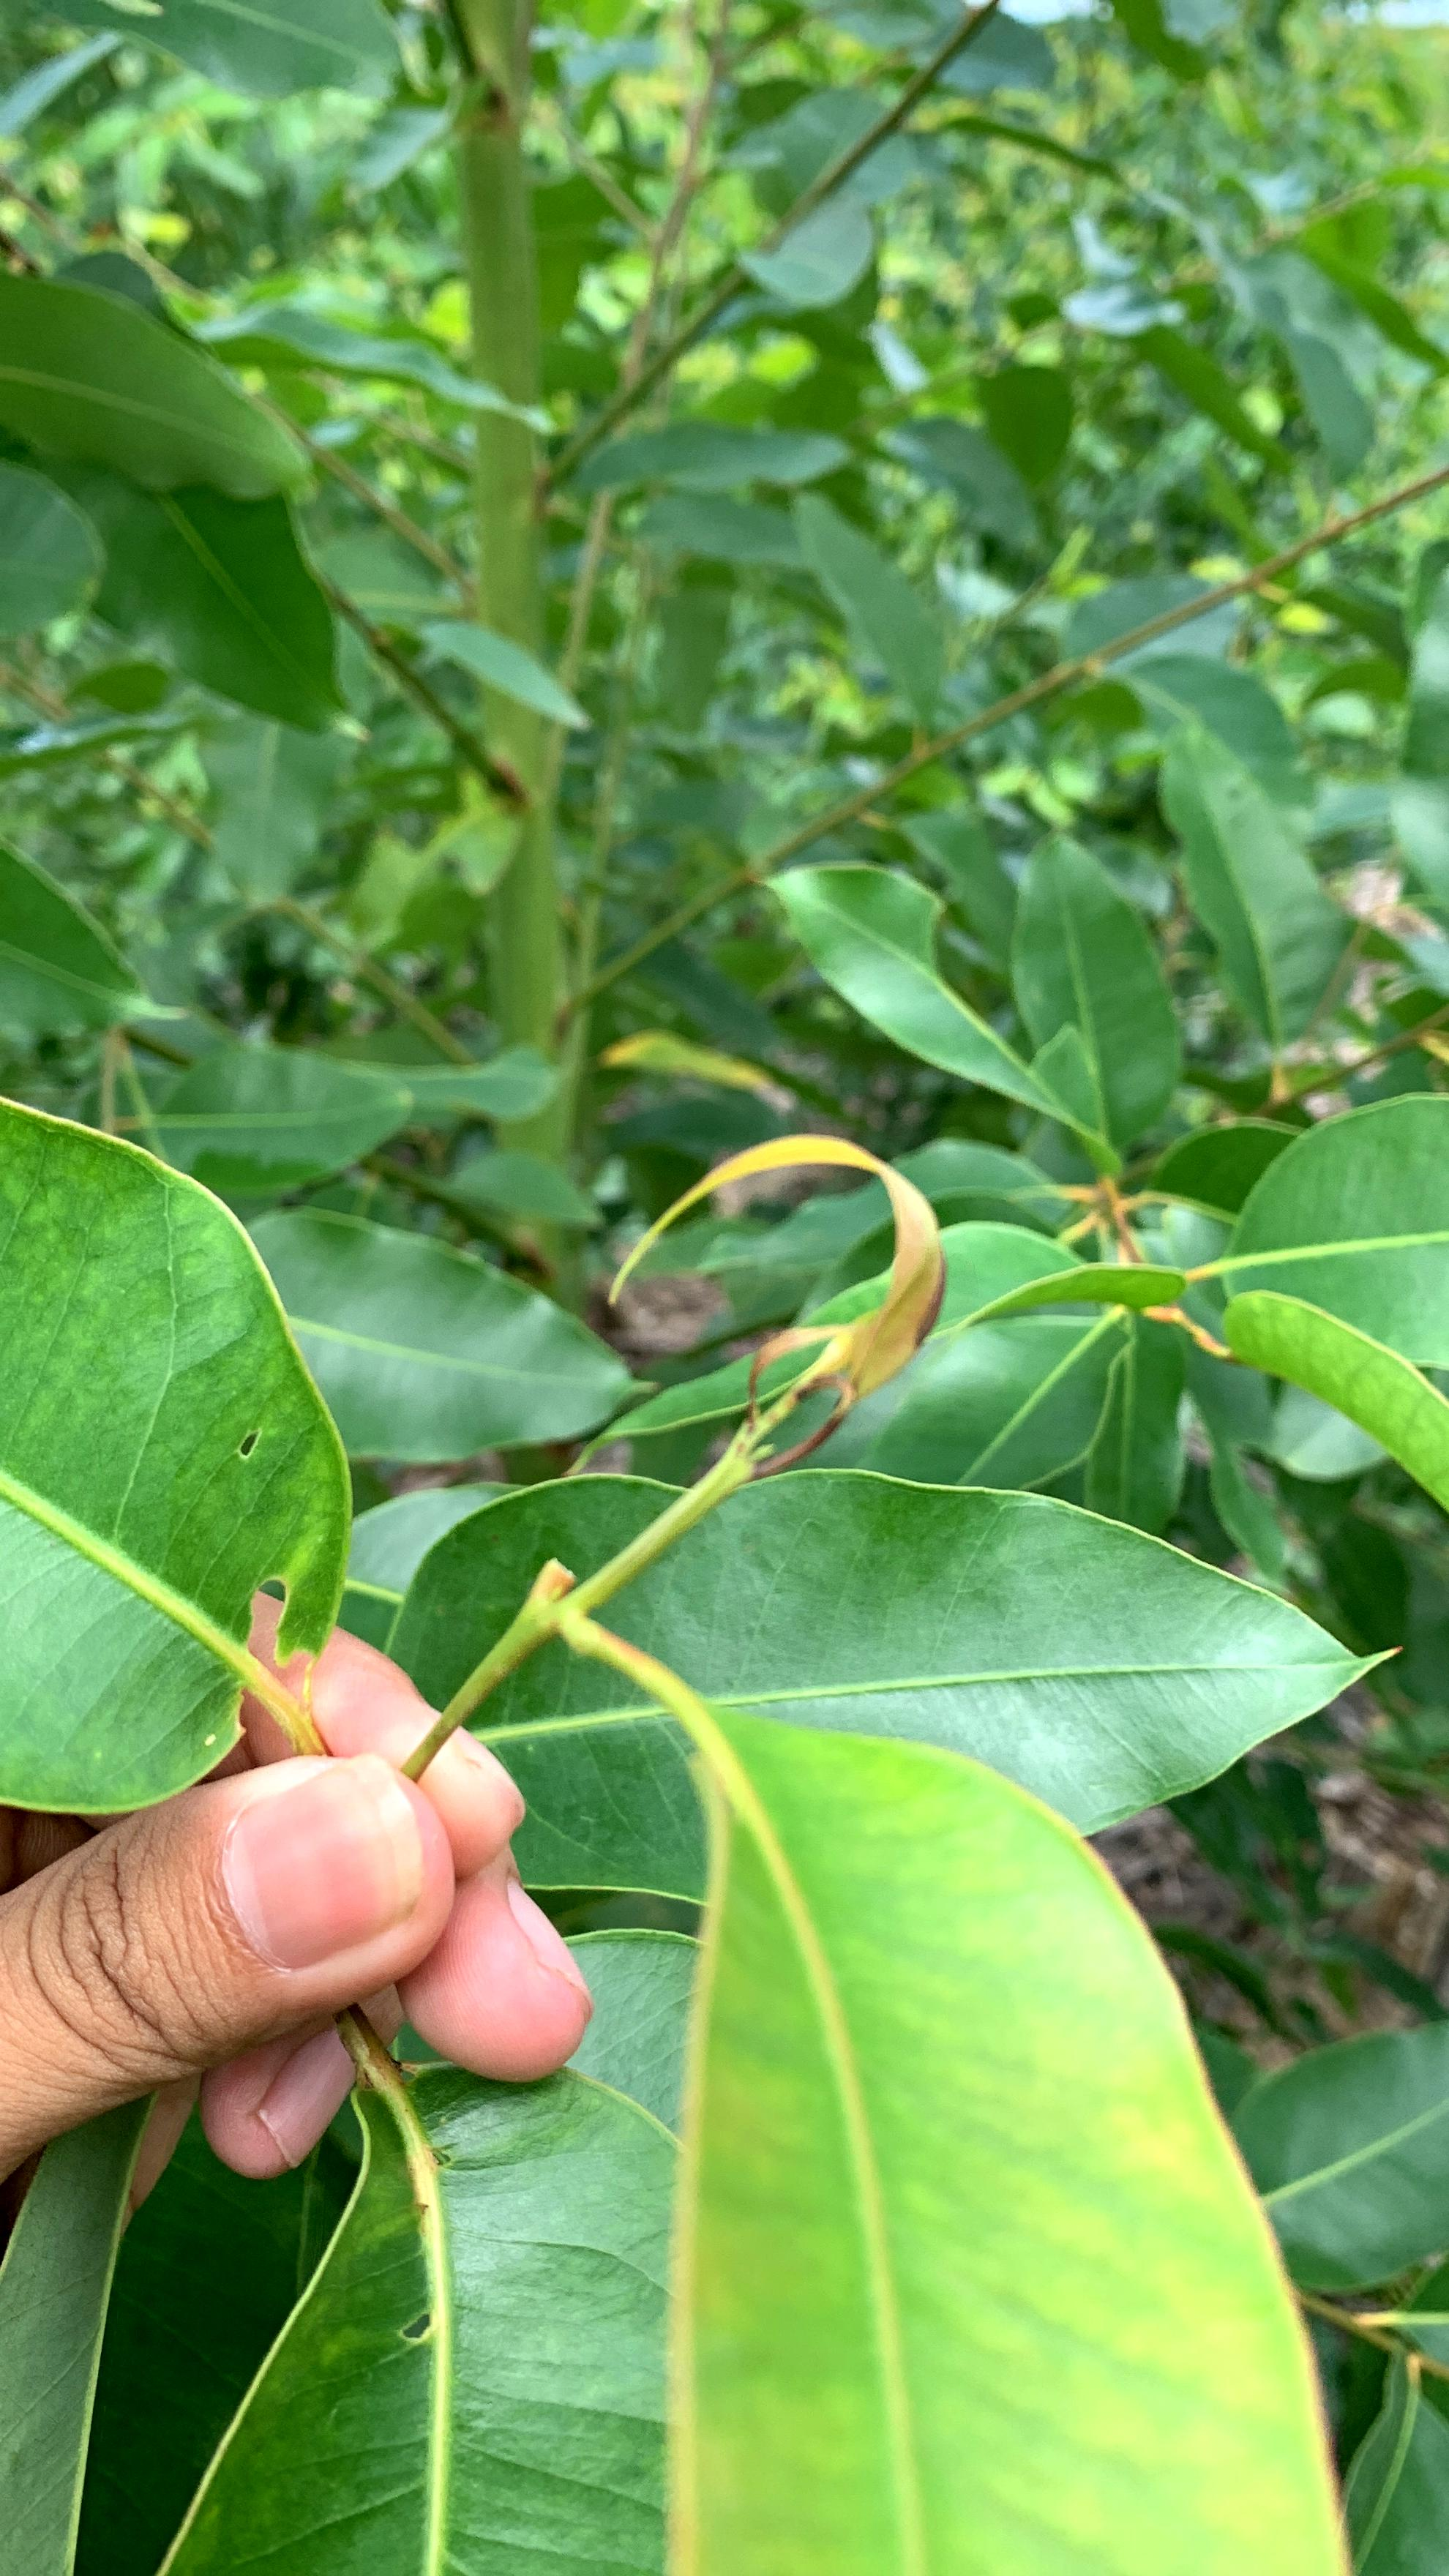Helopeltis-Withered Sprout: (615, 1131, 969, 1457)
